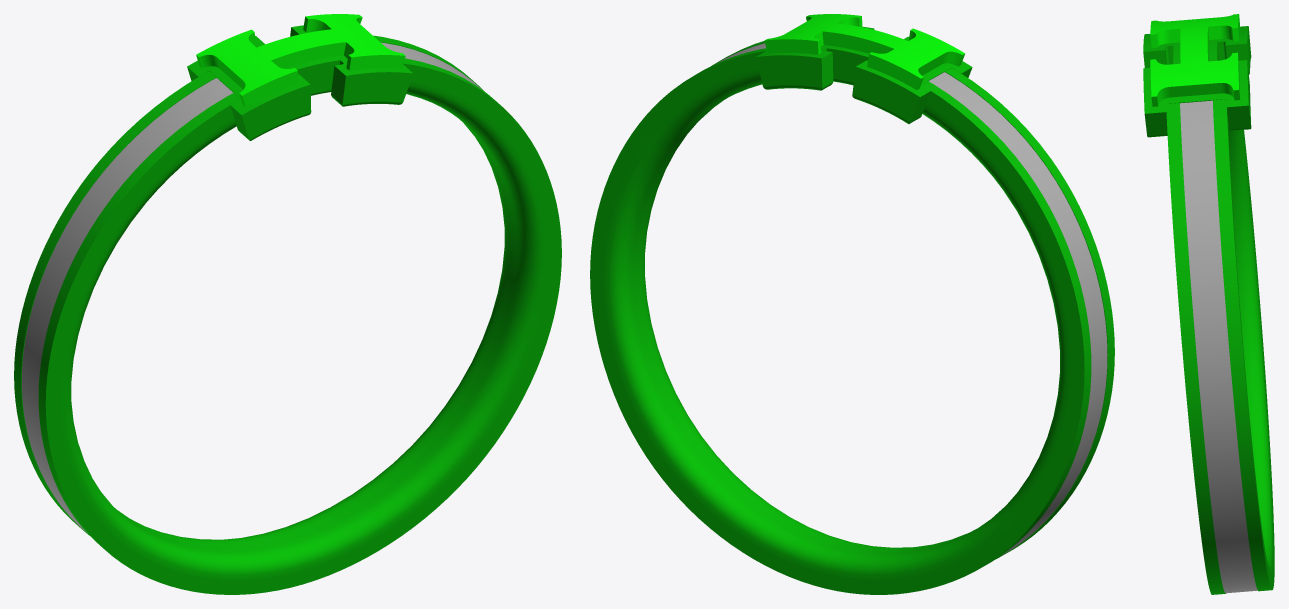
3 renders of one model, left to right at view 1: azimuth 30°, elevation 25°; view 2: azimuth 150°, elevation 25°; view 3: azimuth 270°, elevation 25°, orthographic. The views are drawn at different scales.
Visible parts, largest first — view 1: 2.3dm; view 2: 2.3dm; view 3: 2.3dm.
Boxes of the visible parts, x1,y1,x2,y2 form: 2.3dm: (14, 14, 561, 594); 2.3dm: (590, 14, 1114, 594); 2.3dm: (1143, 14, 1274, 594).
Bounding box in the file's own units: 2.75 × 2.83 × 0.6388.
